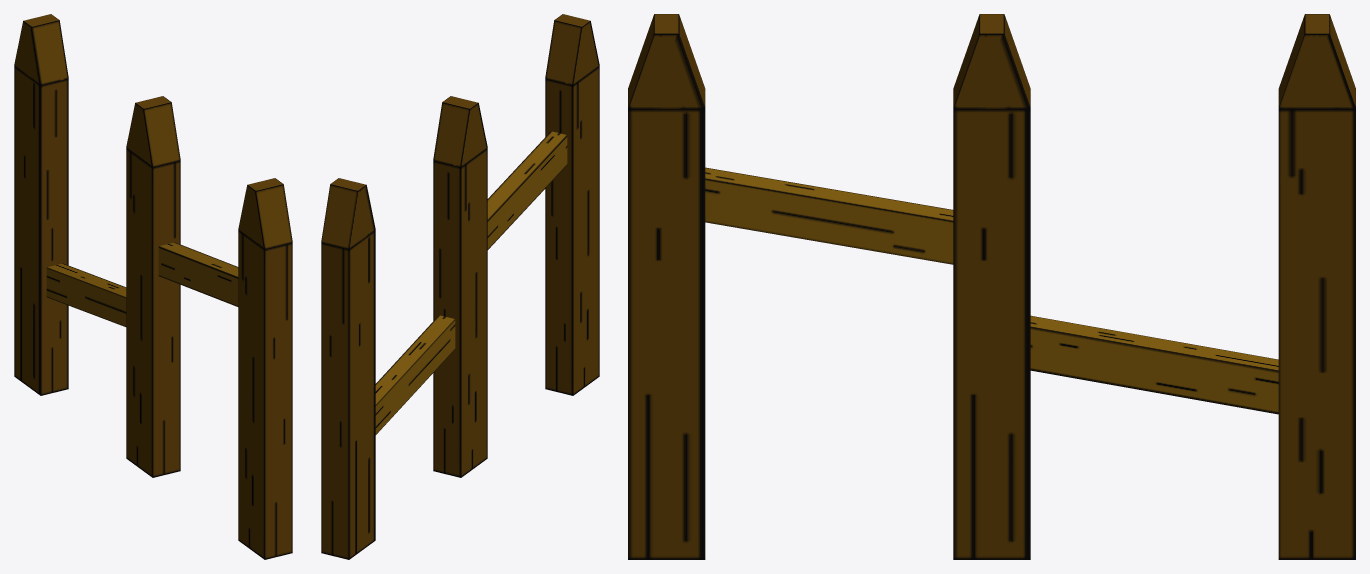
Rendered from Fence2_1.glb.
3 views of the same model, side by side, from view 1: azimuth 30°, elevation 25°; view 2: azimuth 150°, elevation 25°; view 3: azimuth 270°, elevation 25° (orthographic). The views are drawn at different scales.
Visible parts, largest first — view 1: Fence2_1; view 2: Fence2_1; view 3: Fence2_1.
Part boxes in pixels (x1,y1,x2,y2): Fence2_1: (14, 14, 292, 559); Fence2_1: (321, 14, 599, 559); Fence2_1: (628, 14, 1355, 559).
Size of the model in its own units: 0.1443 by 1.78 by 2.24.
Materials: 1 (1 with a texture image).
